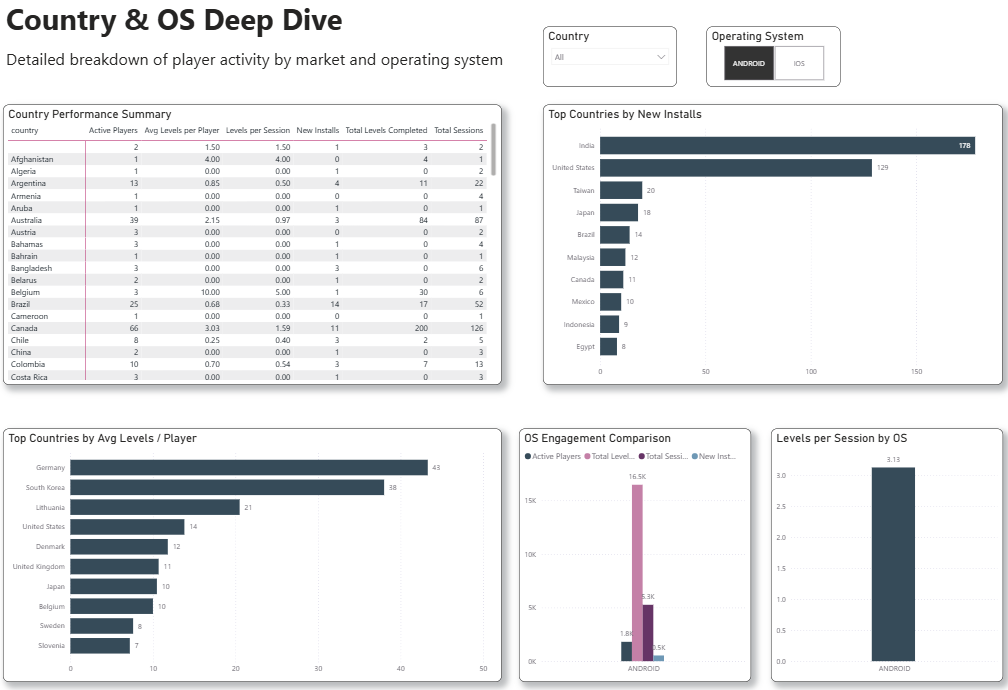

The dashboard page shown, as its layout file describes it:
{"tool":"powerbi","page":{"name":"Country & OS Deep Dive","canvas":[1700,1200],"ordinal":1},"visuals":[{"type":"textbox","box":[24.4,15.6,660,82.2],"z":0},{"type":"textbox","box":[24.4,97.8,855.6,97.8],"z":1000},{"type":"pivotTable","title":"Country Performance Summary","fields":{"Rows":["Fact_Daily_Events.country"],"Values":["Fact_Daily_Events.Active Players","Fact_Daily_Events.Avg Levels per Player","Fact_Daily_Events.Levels per Session","Fact_Daily_Events.New Installs","Fact_Daily_Events.Total Levels Completed","Fact_Daily_Events.Total Sessions"]},"box":[24.4,195.6,826.7,464.4],"z":2000},{"type":"clusteredBarChart","title":"Top Countries by Avg Levels / Player","fields":{"Category":["Fact_Daily_Events.country"],"Y":["Fact_Daily_Events.Avg Levels per Player"]},"box":[24.4,733.3,826.7,420],"z":3000},{"type":"slicer","title":"Country","fields":{"Values":["Fact_Daily_Events.country"]},"box":[920,66.7,222.2,100],"z":4000},{"type":"clusteredColumnChart","title":"OS Engagement Comparison","fields":{"Category":["Fact_Daily_Events.os"],"Y":["Fact_Daily_Events.Active Players","Fact_Daily_Events.Total Levels Completed","Fact_Daily_Events.Total Sessions","Fact_Daily_Events.New Installs"]},"box":[880,733.3,384.4,420],"z":5000},{"type":"clusteredColumnChart","title":"Levels per Session by OS","fields":{"Category":["Fact_Daily_Events.os"],"Y":["Fact_Daily_Events.Levels per Session"]},"box":[1297.8,733.3,384.4,420],"z":6000},{"type":"slicer","title":"Operating System","fields":{"Values":["Fact_Daily_Events.os"]},"box":[1191.1,66.7,222.2,100],"z":7000},{"type":"clusteredBarChart","title":"Top Countries by New Installs","fields":{"Category":["Fact_Daily_Events.country"],"Y":["Fact_Daily_Events.New Installs"]},"box":[920,195.6,762.2,464.4],"z":7001}]}

Visuals, with their boxes on the page's 1700x1200 design canvas (x1, y1, x2, y2). These are canvas units, not pixel positions in the 1008x690 screenshot, which may show the page scaled, cropped or inside an application window:
textbox: left=24, top=16, right=684, bottom=98
textbox: left=24, top=98, right=880, bottom=196
"Country Performance Summary" pivotTable: left=24, top=196, right=851, bottom=660
"Top Countries by Avg Levels / Player" clusteredBarChart: left=24, top=733, right=851, bottom=1153
"Country" slicer: left=920, top=67, right=1142, bottom=167
"OS Engagement Comparison" clusteredColumnChart: left=880, top=733, right=1264, bottom=1153
"Levels per Session by OS" clusteredColumnChart: left=1298, top=733, right=1682, bottom=1153
"Operating System" slicer: left=1191, top=67, right=1413, bottom=167
"Top Countries by New Installs" clusteredBarChart: left=920, top=196, right=1682, bottom=660
